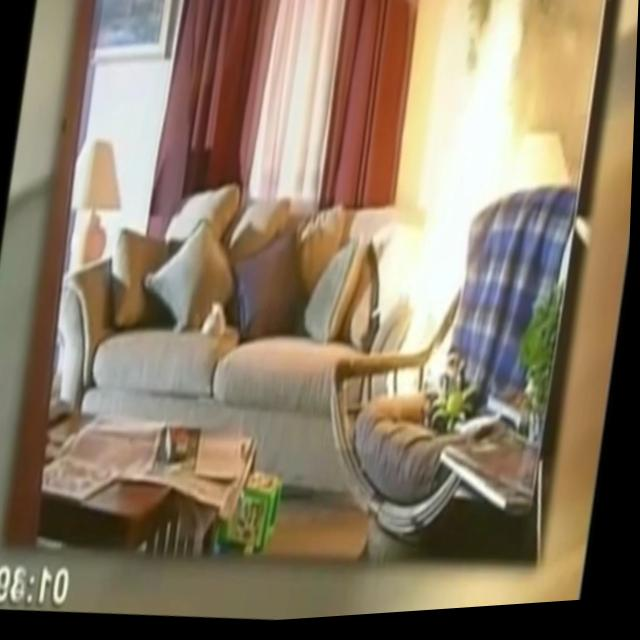fire: (384, 1, 533, 408)
